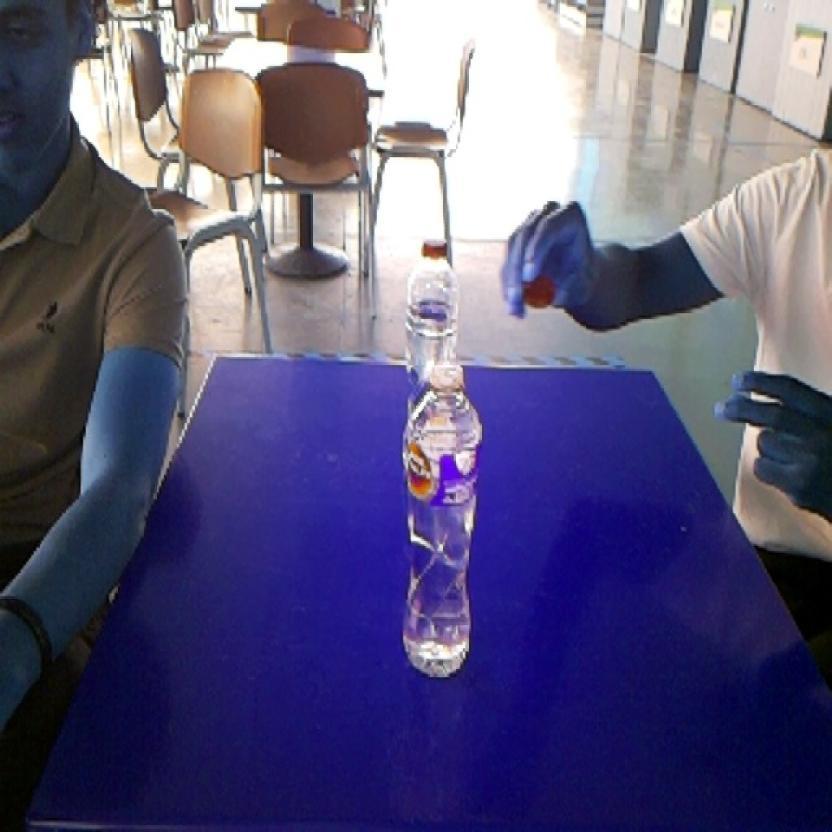no_cap: (395, 352, 484, 682)
no_label: (398, 230, 472, 354)
